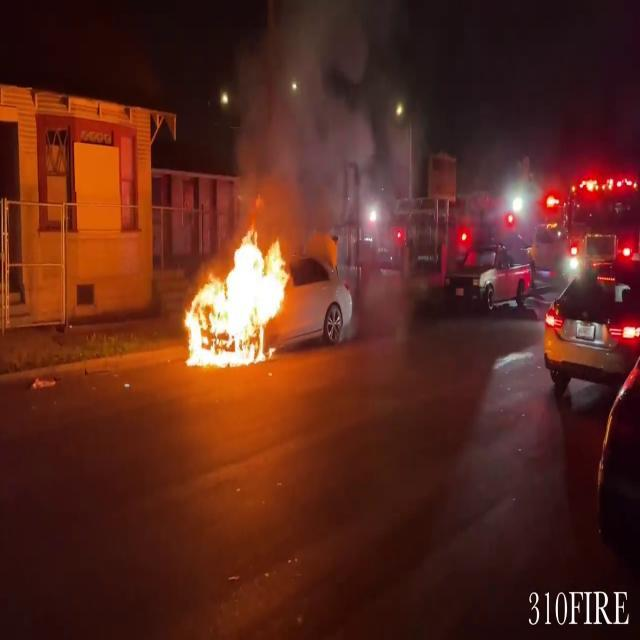Fire: (178, 222, 296, 368)
Smoke: (220, 1, 402, 230)
